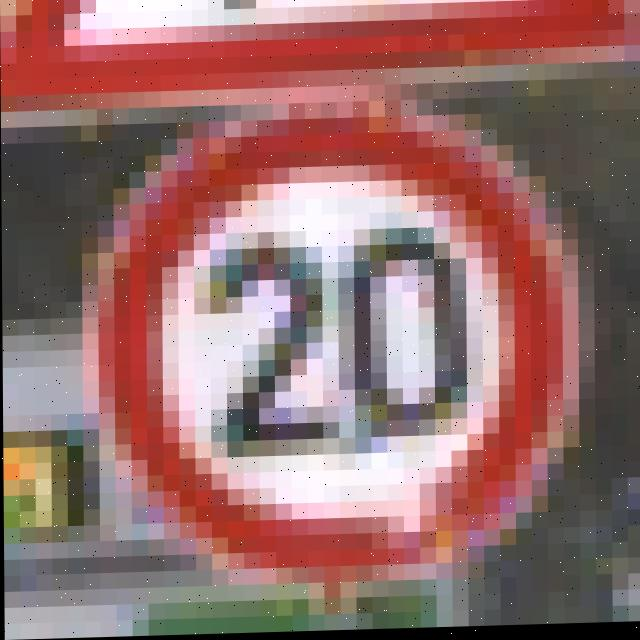speed_limit_20: (90, 93, 598, 585)
